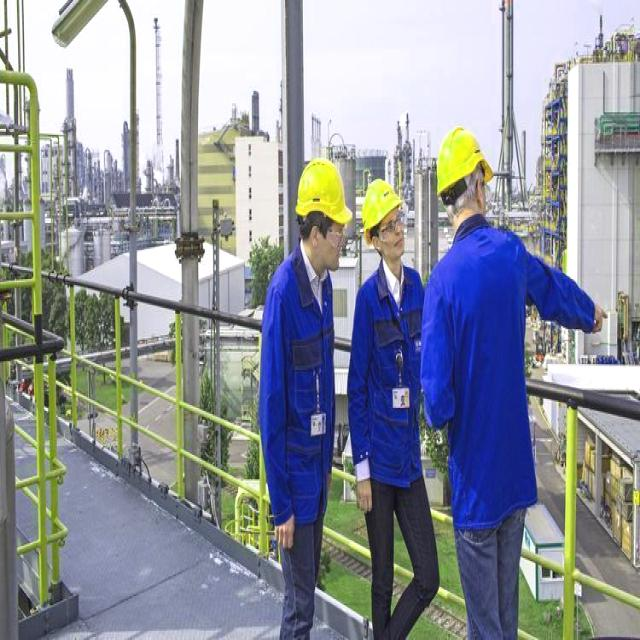face_nomask: (310, 215, 346, 278), (374, 208, 410, 265)
glasses: (378, 211, 407, 249)
hand_noglove: (270, 516, 298, 556), (354, 476, 377, 520), (590, 302, 608, 340)
head_helmet: (436, 128, 494, 192), (296, 158, 352, 224), (361, 176, 405, 238)
person: (425, 120, 600, 640), (259, 158, 349, 635), (352, 174, 444, 640)
